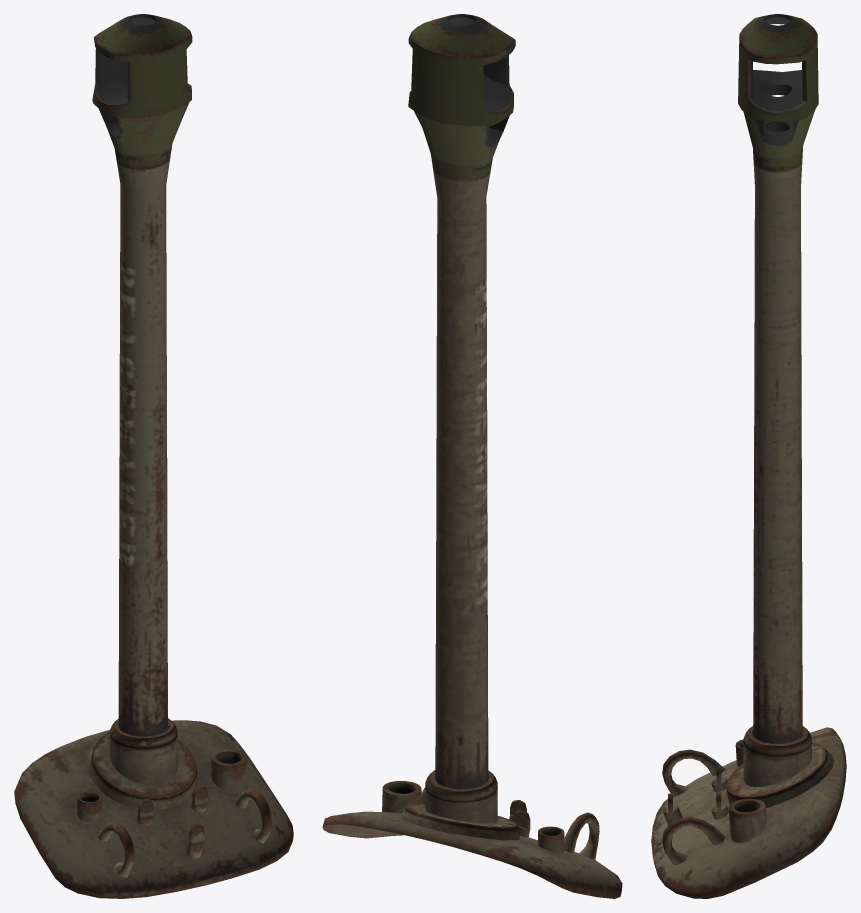
The model's file is Gun_08.glb.
3 renders of one model, left to right at view 1: azimuth 30°, elevation 25°; view 2: azimuth 150°, elevation 25°; view 3: azimuth 270°, elevation 25°, orthographic. The views are drawn at different scales.
Parts seen in each view (by area): view 1: set_0_group_0; view 2: set_0_group_0; view 3: set_0_group_0.
Part boxes in pixels (<box>): set_0_group_0: <box>14,14,293,898</box>; set_0_group_0: <box>322,14,622,898</box>; set_0_group_0: <box>651,14,846,898</box>.
Bounding box in the file's own units: 1.03 × 3.51 × 0.7492.
1 material, 1 textured.
